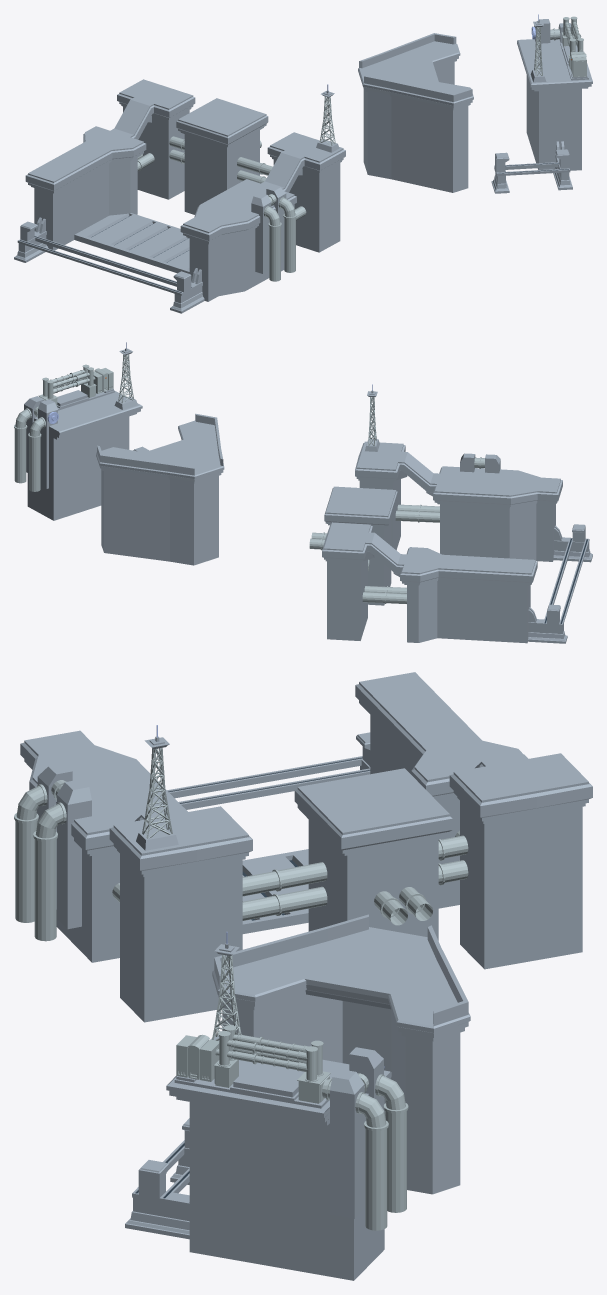
Rendered from Branch.fbx.
3 renders of one model, top to bottom at view 1: azimuth 30°, elevation 25°; view 2: azimuth 150°, elevation 25°; view 3: azimuth 270°, elevation 25°, orthographic. The views are drawn at different scales.
Parts seen in each view (by area): view 1: 立方体.175, 立方体.145, 立方体.159, 立方体.143, 立方体.177, 立方体.147, 立方体.144, 立方体.150, 立方体.155, 立方体.189, 立方体.179, 立方体.183 (+5 smaller); view 2: 立方体.175, 立方体.145, 立方体.159, 立方体.177, 立方体.144, 立方体.143, 立方体.155, 立方体.147, 立方体.183, 立方体.181, 立方体.182, 立方体.146 (+7 smaller); view 3: 立方体.175, 立方体.177, 立方体.144, 立方体.147, 立方体.143, 立方体.159, 立方体.145, 立方体.189, 立方体.183, 立方体.181, 立方体.179, 立方体.155 (+9 smaller).
Part boxes in pixels (x1,y1,x2,y2): 立方体.175: (358, 33, 473, 192); 立方体.145: (25, 126, 146, 250); 立方体.159: (180, 179, 296, 301); 立方体.143: (176, 98, 268, 214); 立方体.177: (517, 39, 592, 170); 立方体.147: (267, 132, 345, 252); 立方体.144: (117, 79, 195, 199); 立方体.150: (74, 213, 189, 273); 立方体.155: (14, 217, 204, 313); 立方体.189: (251, 185, 296, 281); 立方体.179: (491, 141, 572, 193); 立方体.183: (560, 16, 588, 80); 立方体.175: (96, 413, 224, 565); 立方体.145: (400, 547, 537, 643); 立方体.159: (433, 466, 562, 561); 立方体.177: (27, 391, 142, 520); 立方体.144: (322, 522, 372, 640); 立方体.143: (324, 486, 397, 605); 立方体.155: (528, 524, 592, 643); 立方体.147: (355, 441, 405, 550); 立方体.183: (38, 364, 114, 410); 立方体.181: (14, 396, 43, 483); 立方体.182: (38, 399, 58, 488); 立方体.146: (363, 532, 407, 576); 立方体.175: (212, 914, 470, 1194); 立方体.177: (166, 1060, 391, 1280); 立方体.144: (449, 753, 592, 969); 立方体.147: (109, 806, 252, 1022); 立方体.143: (294, 768, 452, 940); 立方体.159: (20, 730, 182, 962); 立方体.145: (355, 672, 522, 908); 立方体.189: (14, 763, 91, 941); 立方体.183: (174, 1025, 330, 1108); 立方体.181: (330, 1069, 388, 1230); 立方体.179: (125, 1118, 189, 1239); 立方体.155: (167, 732, 370, 809).
Bounding box in the file's own units: 10862 × 5290 × 2922.
